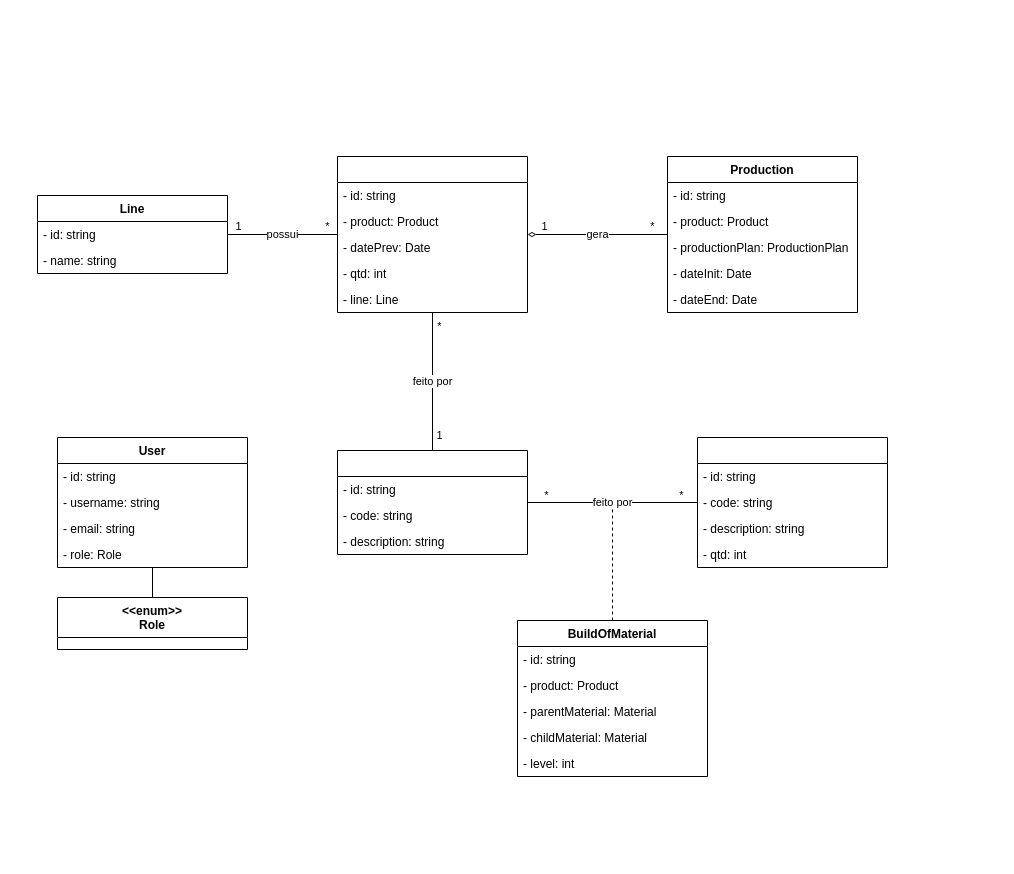
Image size: 1014x874. Some labels were removed from this diagram. The box of each missing label's shape, as (x1, y1, x2, y2) in pixels:
Material: (696, 436, 888, 568)
Product: (336, 450, 528, 554)
ProductionPlan: (336, 156, 528, 312)
